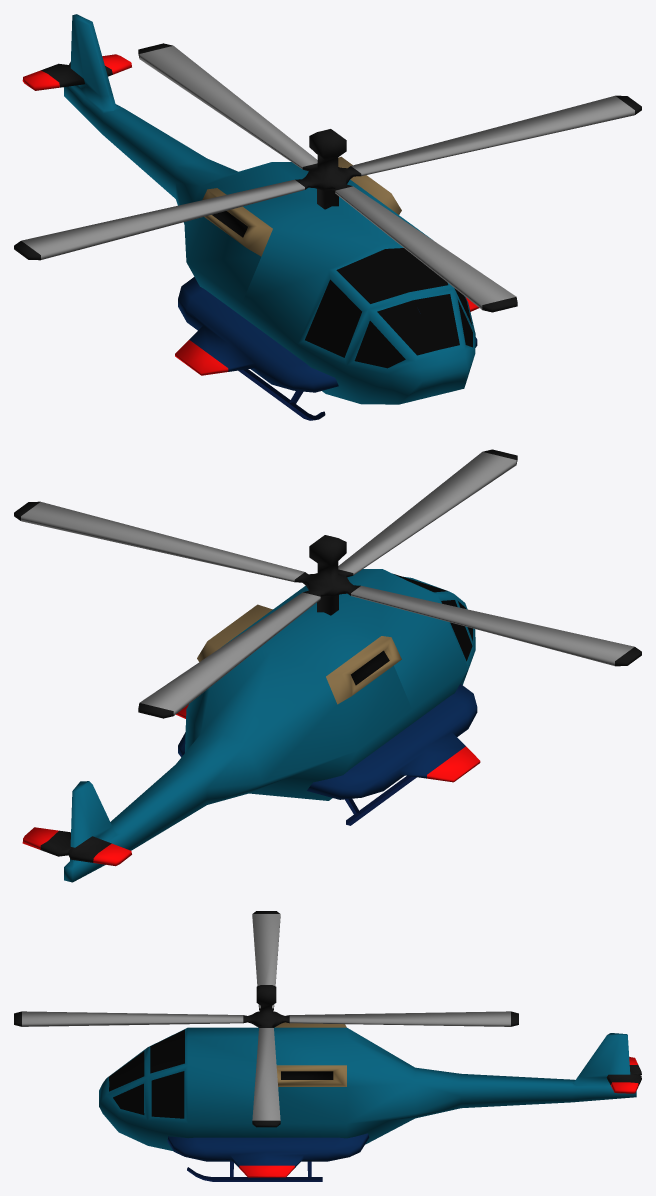
File: Helicopter-02.fbx
The picture shows the model from 3 angles, top to bottom: view 1: azimuth 30°, elevation 25°; view 2: azimuth 150°, elevation 25°; view 3: azimuth 270°, elevation 25°; orthographic projection. The views are drawn at different scales.
Visible parts, largest first — view 1: Cube, Helice; view 2: Cube, Helice; view 3: Cube, Helice.
Part boxes in pixels (x1=…): Cube: x1=22, y1=14, x2=478, y2=420; Helice: x1=14, y1=43, x2=641, y2=312; Cube: x1=22, y1=569, x2=480, y2=882; Helice: x1=14, y1=449, x2=641, y2=718; Cube: x1=99, y1=1022, x2=641, y2=1181; Helice: x1=14, y1=911, x2=518, y2=1127.
Size of what is drawn, in the model's own units: 17.26 by 6.52 by 21.46.
